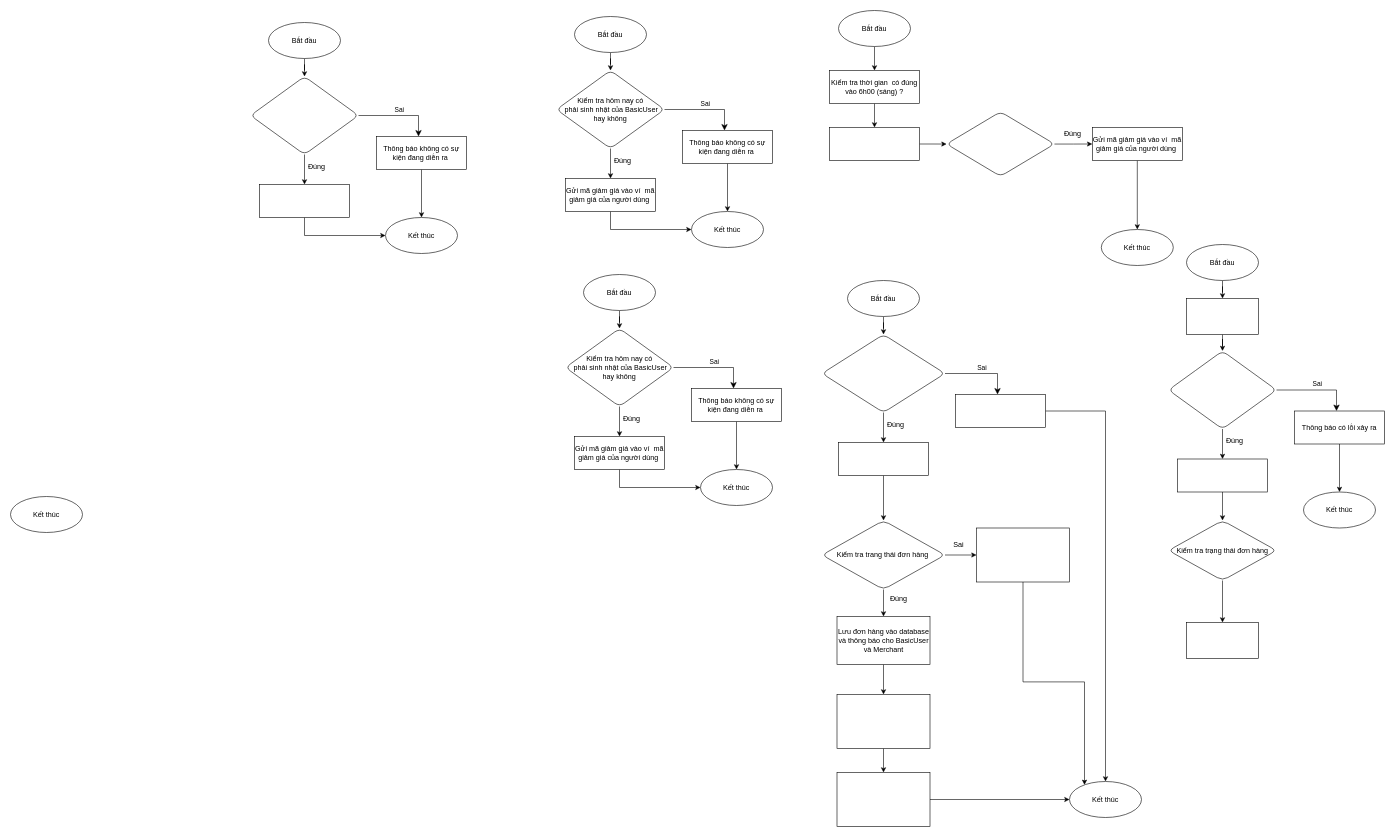
The diagram is 1395 pixels wide and 837 high, and some of its shapes have lost their labels. The box of each missing label's shape, as (x1, y1, x2, y2) in pixels:
Danh sách rỗng ?: (946, 111, 1054, 176)
Gửi phản hồi cho server Momo: (836, 694, 930, 748)
Gửi phản hồi cho server Momo xác nhận thất bại: (976, 527, 1070, 582)
Gửi phản hồi cho server Momo, xác nhận đơn hàng thành công: (836, 772, 930, 826)
Gửi request đến Accesstrade: (1186, 298, 1258, 334)
Kiểm tra cấu trúc mà Accesstrade phản hồi: (1168, 350, 1276, 429)
Kiểm tra thời gian sự kiện: (250, 76, 358, 154)
Lấy danh sách các BasicUser có sinh nhật vào ngày hôm nay: (829, 127, 920, 160)
Lấy uid của BasicUser từ trường "utm_source": (1177, 458, 1268, 492)
Nhân đôi số điểm: (259, 184, 350, 218)
Nhận kết nối từ server Momo và kiểm tra toàn vẹn dữ liệu?: (821, 334, 945, 412)
Phản hồi có lỗi và ngắt kết nối: (955, 394, 1046, 428)
Đọc: (838, 442, 928, 476)
